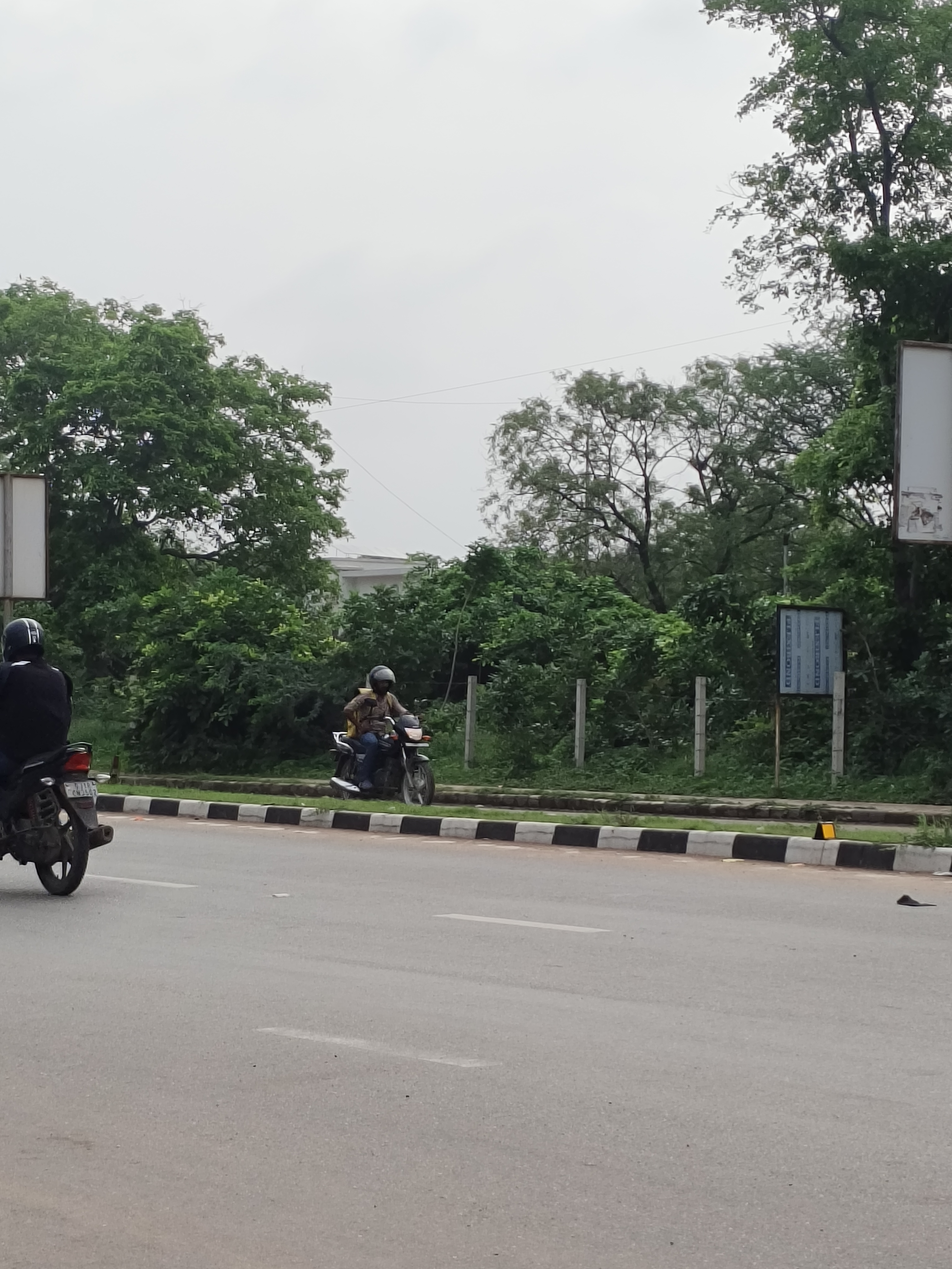BikeWithRider: (0, 597, 175, 920), (288, 650, 447, 820)
Helmet: (0, 614, 54, 661), (359, 655, 400, 696)
